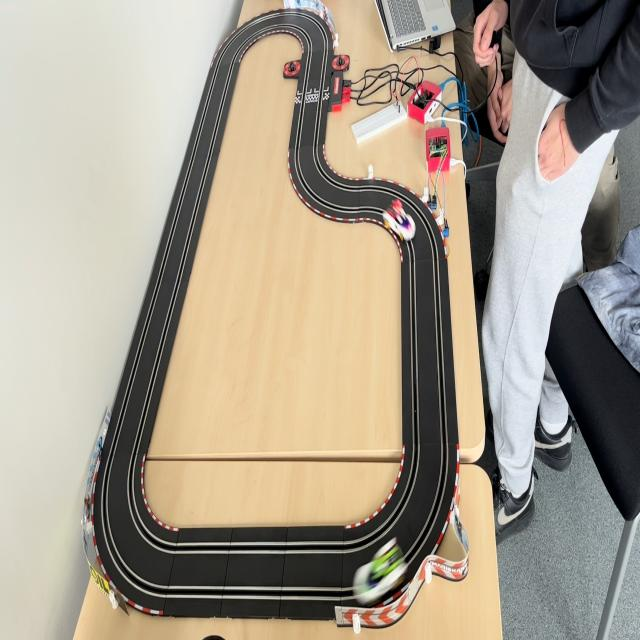mario: (380, 198, 417, 243)
yoshi: (348, 534, 408, 607)
